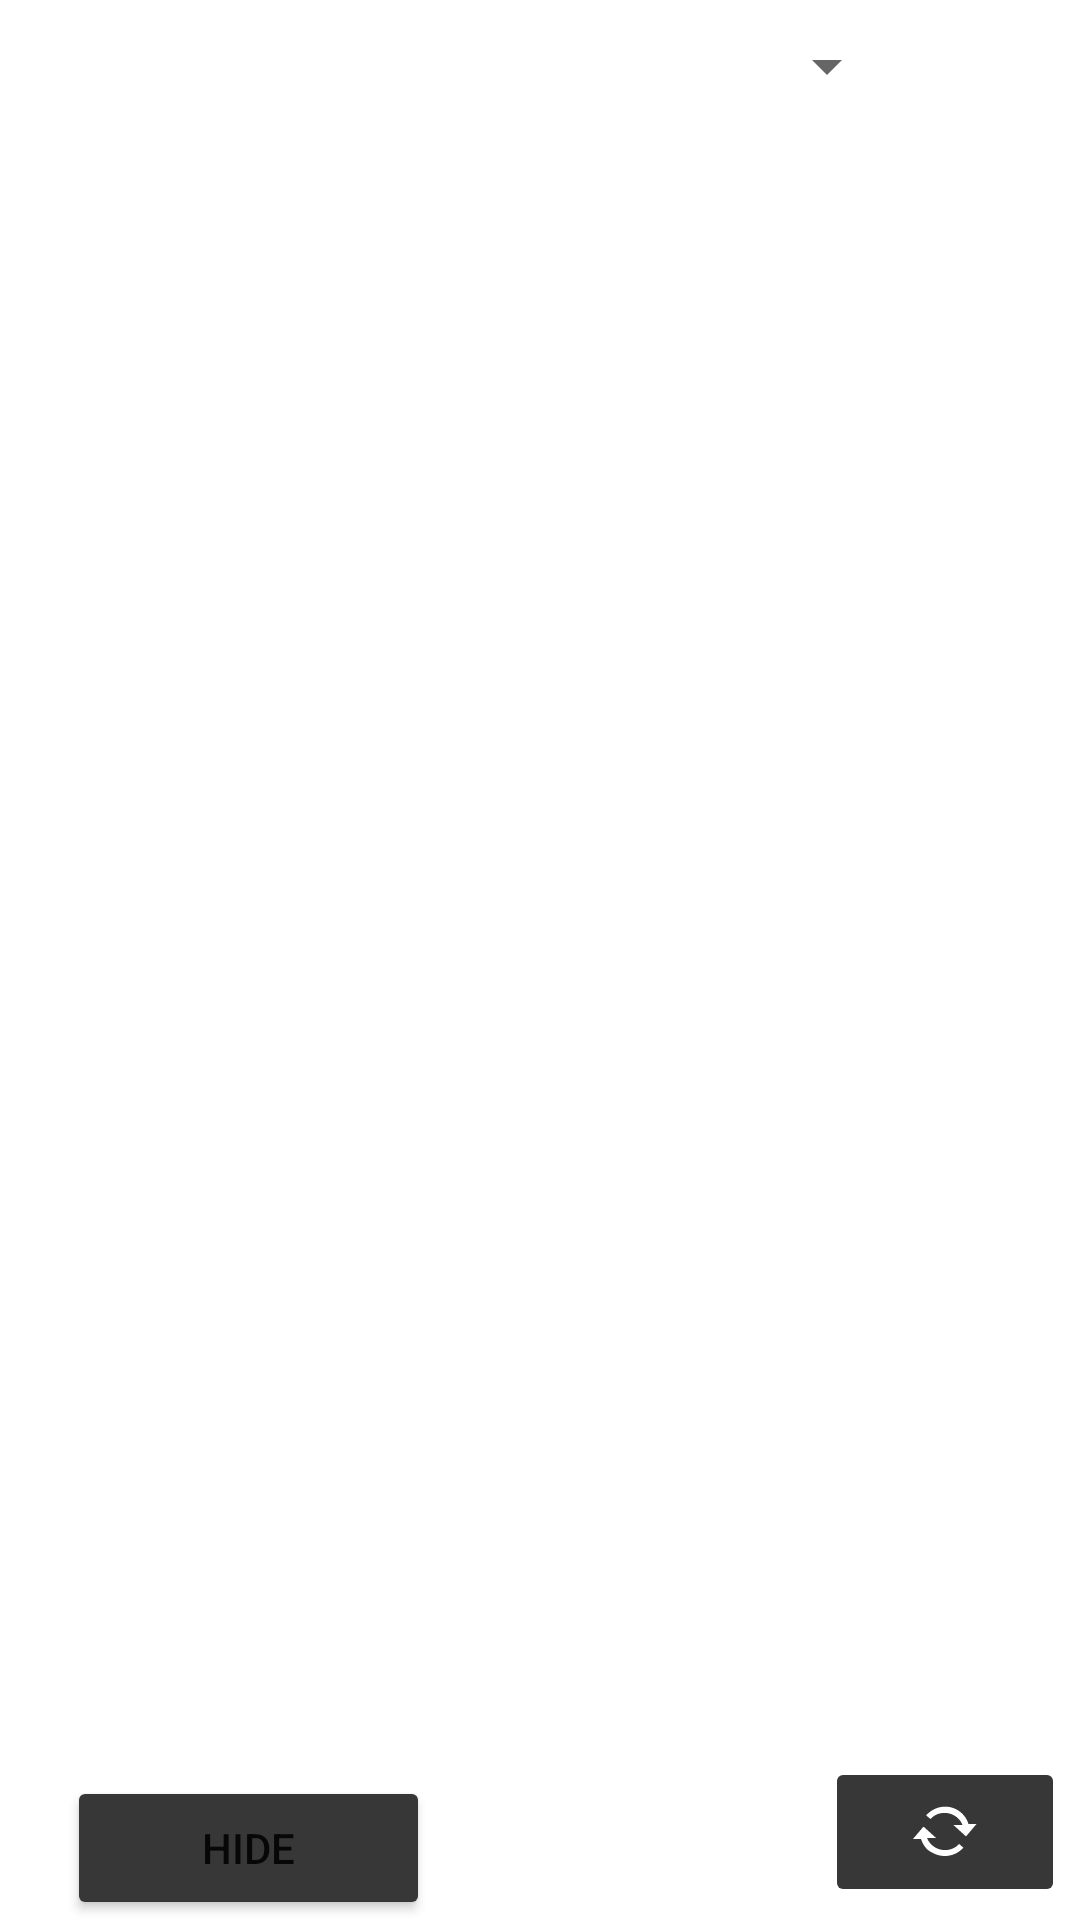

Named icons in this screenshot (1080x1920) and their bounding boxes, (x1, y1, x2, y2):
Refresh: (837, 1775, 1053, 1889)
